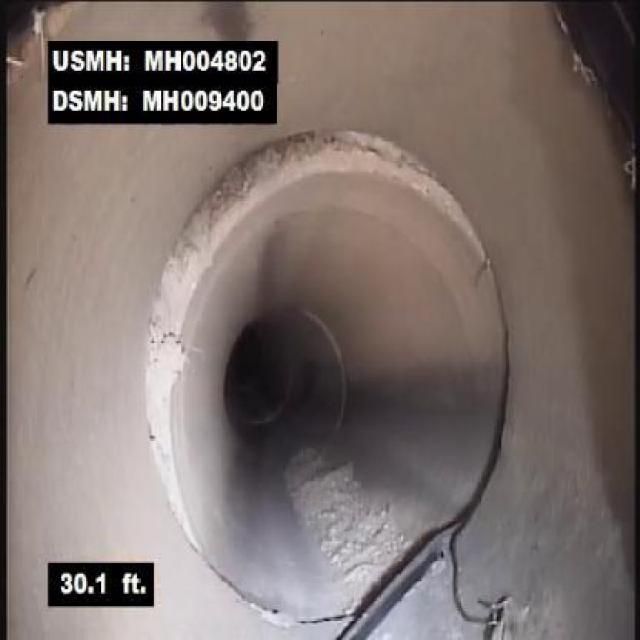Joint offset: (126, 131, 228, 511), (224, 128, 470, 262)
